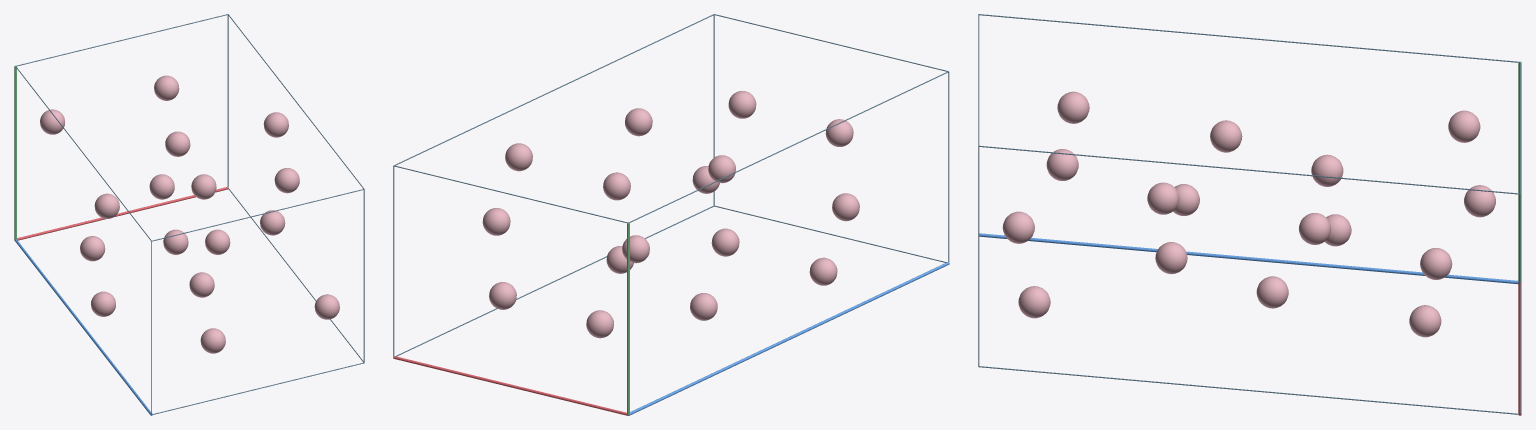
Rendered from nguyen-to-pu.glb.
3 renders of one model, left to right at view 1: azimuth 30°, elevation 25°; view 2: azimuth 150°, elevation 25°; view 3: azimuth 270°, elevation 25°, orthographic. The views are drawn at different scales.
Parts seen in each view (by area): view 1: Ô mạng và các trục a, b, c, Pu6 · Pu · 1 (×2), Pu4 · Pu · 1 (×2), Pu2 · Pu · 1 (×2), Pu3 · Pu · 1 (×2), Pu7 · Pu · 1 (×2), Pu5 · Pu · 1 (×2), Pu1 · Pu · 1 (×2), Pu8 · Pu · 1 (×2); view 2: Ô mạng và các trục a, b, c, Pu6 · Pu · 1 (×2), Pu5 · Pu · 1 (×2), Pu1 · Pu · 1 (×2), Pu3 · Pu · 1 (×2), Pu7 · Pu · 1 (×2), Pu2 · Pu · 1 (×2), Pu4 · Pu · 1, Pu8 · Pu · 1; view 3: Ô mạng và các trục a, b, c, Pu2 · Pu · 1 (×2), Pu4 · Pu · 1 (×2), Pu8 · Pu · 1 (×2), Pu6 · Pu · 1 (×2), Pu7 · Pu · 1 (×2), Pu1 · Pu · 1 (×2), Pu3 · Pu · 1 (×2), Pu5 · Pu · 1 (×2).
Part boxes in pixels (x1,y1,x2,y2): Ô mạng và các trục a, b, c: (14, 14, 364, 415); Pu6 · Pu · 1 (×2): (165, 131, 214, 297); Pu4 · Pu · 1 (×2): (149, 174, 230, 254); Pu2 · Pu · 1 (×2): (163, 174, 216, 254); Pu3 · Pu · 1 (×2): (80, 168, 299, 261); Pu7 · Pu · 1 (×2): (154, 75, 225, 353); Pu5 · Pu · 1 (×2): (91, 112, 288, 316); Pu1 · Pu · 1 (×2): (94, 193, 285, 235); Pu8 · Pu · 1 (×2): (40, 109, 339, 319); Ô mạng và các trục a, b, c: (393, 14, 949, 415); Pu6 · Pu · 1 (×2): (603, 172, 739, 256); Pu5 · Pu · 1 (×2): (505, 143, 837, 285); Pu1 · Pu · 1 (×2): (586, 91, 756, 338); Pu3 · Pu · 1 (×2): (625, 108, 717, 320); Pu7 · Pu · 1 (×2): (482, 193, 859, 235); Pu2 · Pu · 1 (×2): (489, 119, 853, 309); Pu4 · Pu · 1: (708, 155, 735, 183); Pu8 · Pu · 1: (622, 235, 649, 263); Ô mạng và các trục a, b, c: (978, 14, 1521, 415); Pu2 · Pu · 1 (×2): (1057, 91, 1441, 337); Pu4 · Pu · 1 (×2): (1210, 120, 1288, 308); Pu8 · Pu · 1 (×2): (1018, 110, 1480, 318); Pu6 · Pu · 1 (×2): (1155, 154, 1343, 274); Pu7 · Pu · 1 (×2): (1002, 185, 1495, 243); Pu1 · Pu · 1 (×2): (1046, 149, 1452, 279); Pu3 · Pu · 1 (×2): (1147, 182, 1351, 246); Pu5 · Pu · 1 (×2): (1173, 184, 1330, 244).
Bounding box in the file's own units: 8.47 × 4.87 × 10.79.
